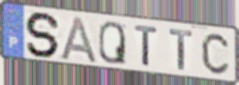A: (58, 15, 100, 65)
C: (200, 32, 231, 76)
Q: (98, 20, 128, 67)
S: (24, 10, 63, 59)
T: (133, 24, 160, 68), (168, 28, 195, 72)
